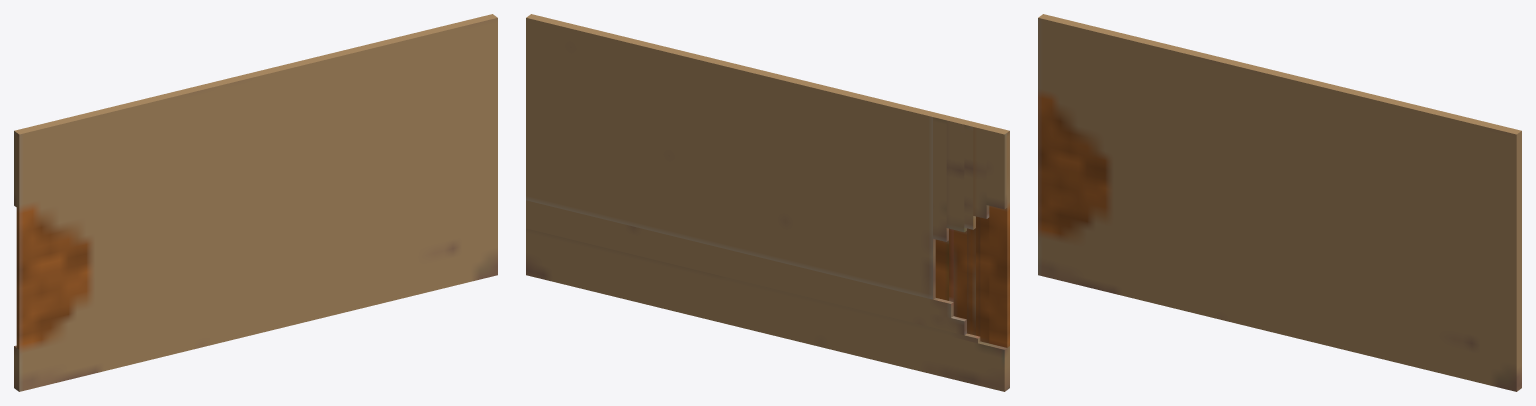
The model's file is WallRightSideModeratelyDamaged_A_00.obj.
3 views of the same model, side by side, from view 1: azimuth 30°, elevation 25°; view 2: azimuth 150°, elevation 25°; view 3: azimuth 330°, elevation 25° (orthographic).
Parts seen in each view (by area): view 1: WallRightSideModeratelyDamaged_A_00; view 2: WallRightSideModeratelyDamaged_A_00; view 3: WallRightSideModeratelyDamaged_A_00.
Boxes of the visible parts, x1=… form: WallRightSideModeratelyDamaged_A_00: x1=14, y1=14, x2=497, y2=391; WallRightSideModeratelyDamaged_A_00: x1=526, y1=14, x2=1009, y2=391; WallRightSideModeratelyDamaged_A_00: x1=1038, y1=14, x2=1521, y2=391.
Size of the model in its own units: 5.35 by 2.75 by 0.1.
